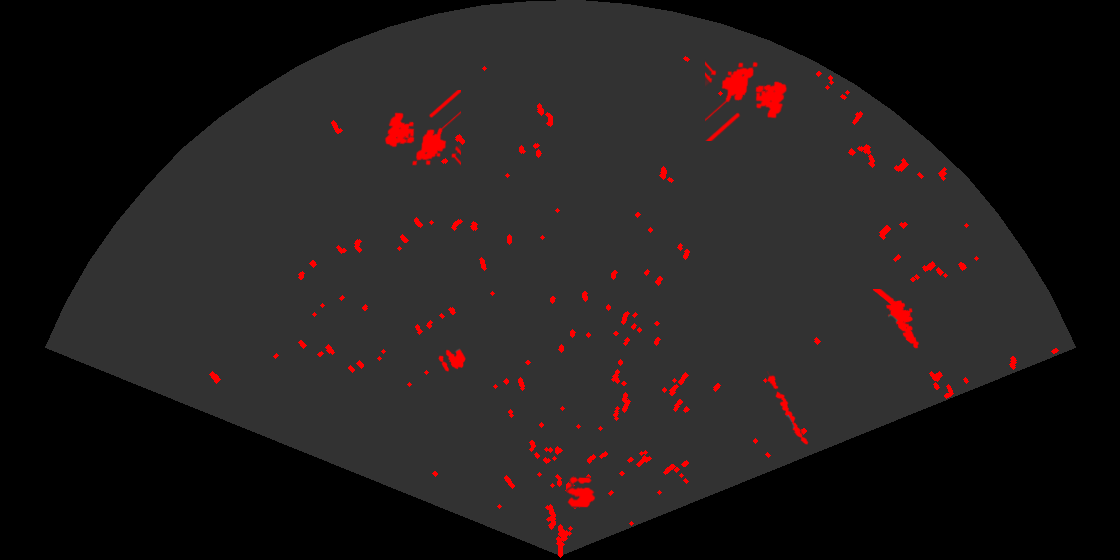ball: (565, 475, 597, 509), (437, 348, 467, 373)
cage: (705, 59, 789, 141), (383, 90, 461, 167)
chain: (765, 371, 810, 446)
frogman: (873, 289, 921, 350)
